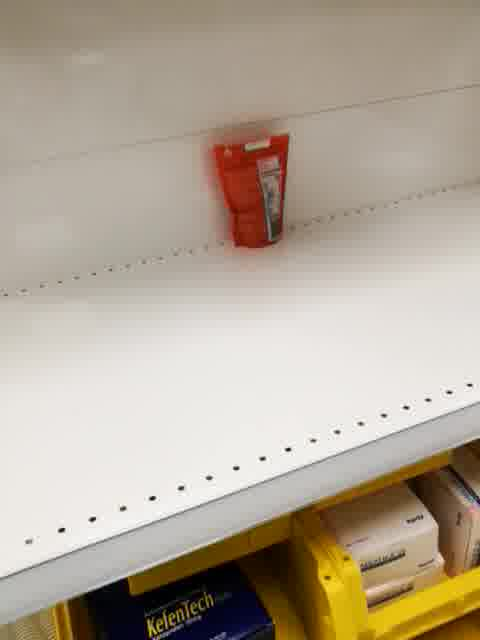whitechia: (207, 130, 290, 251)
